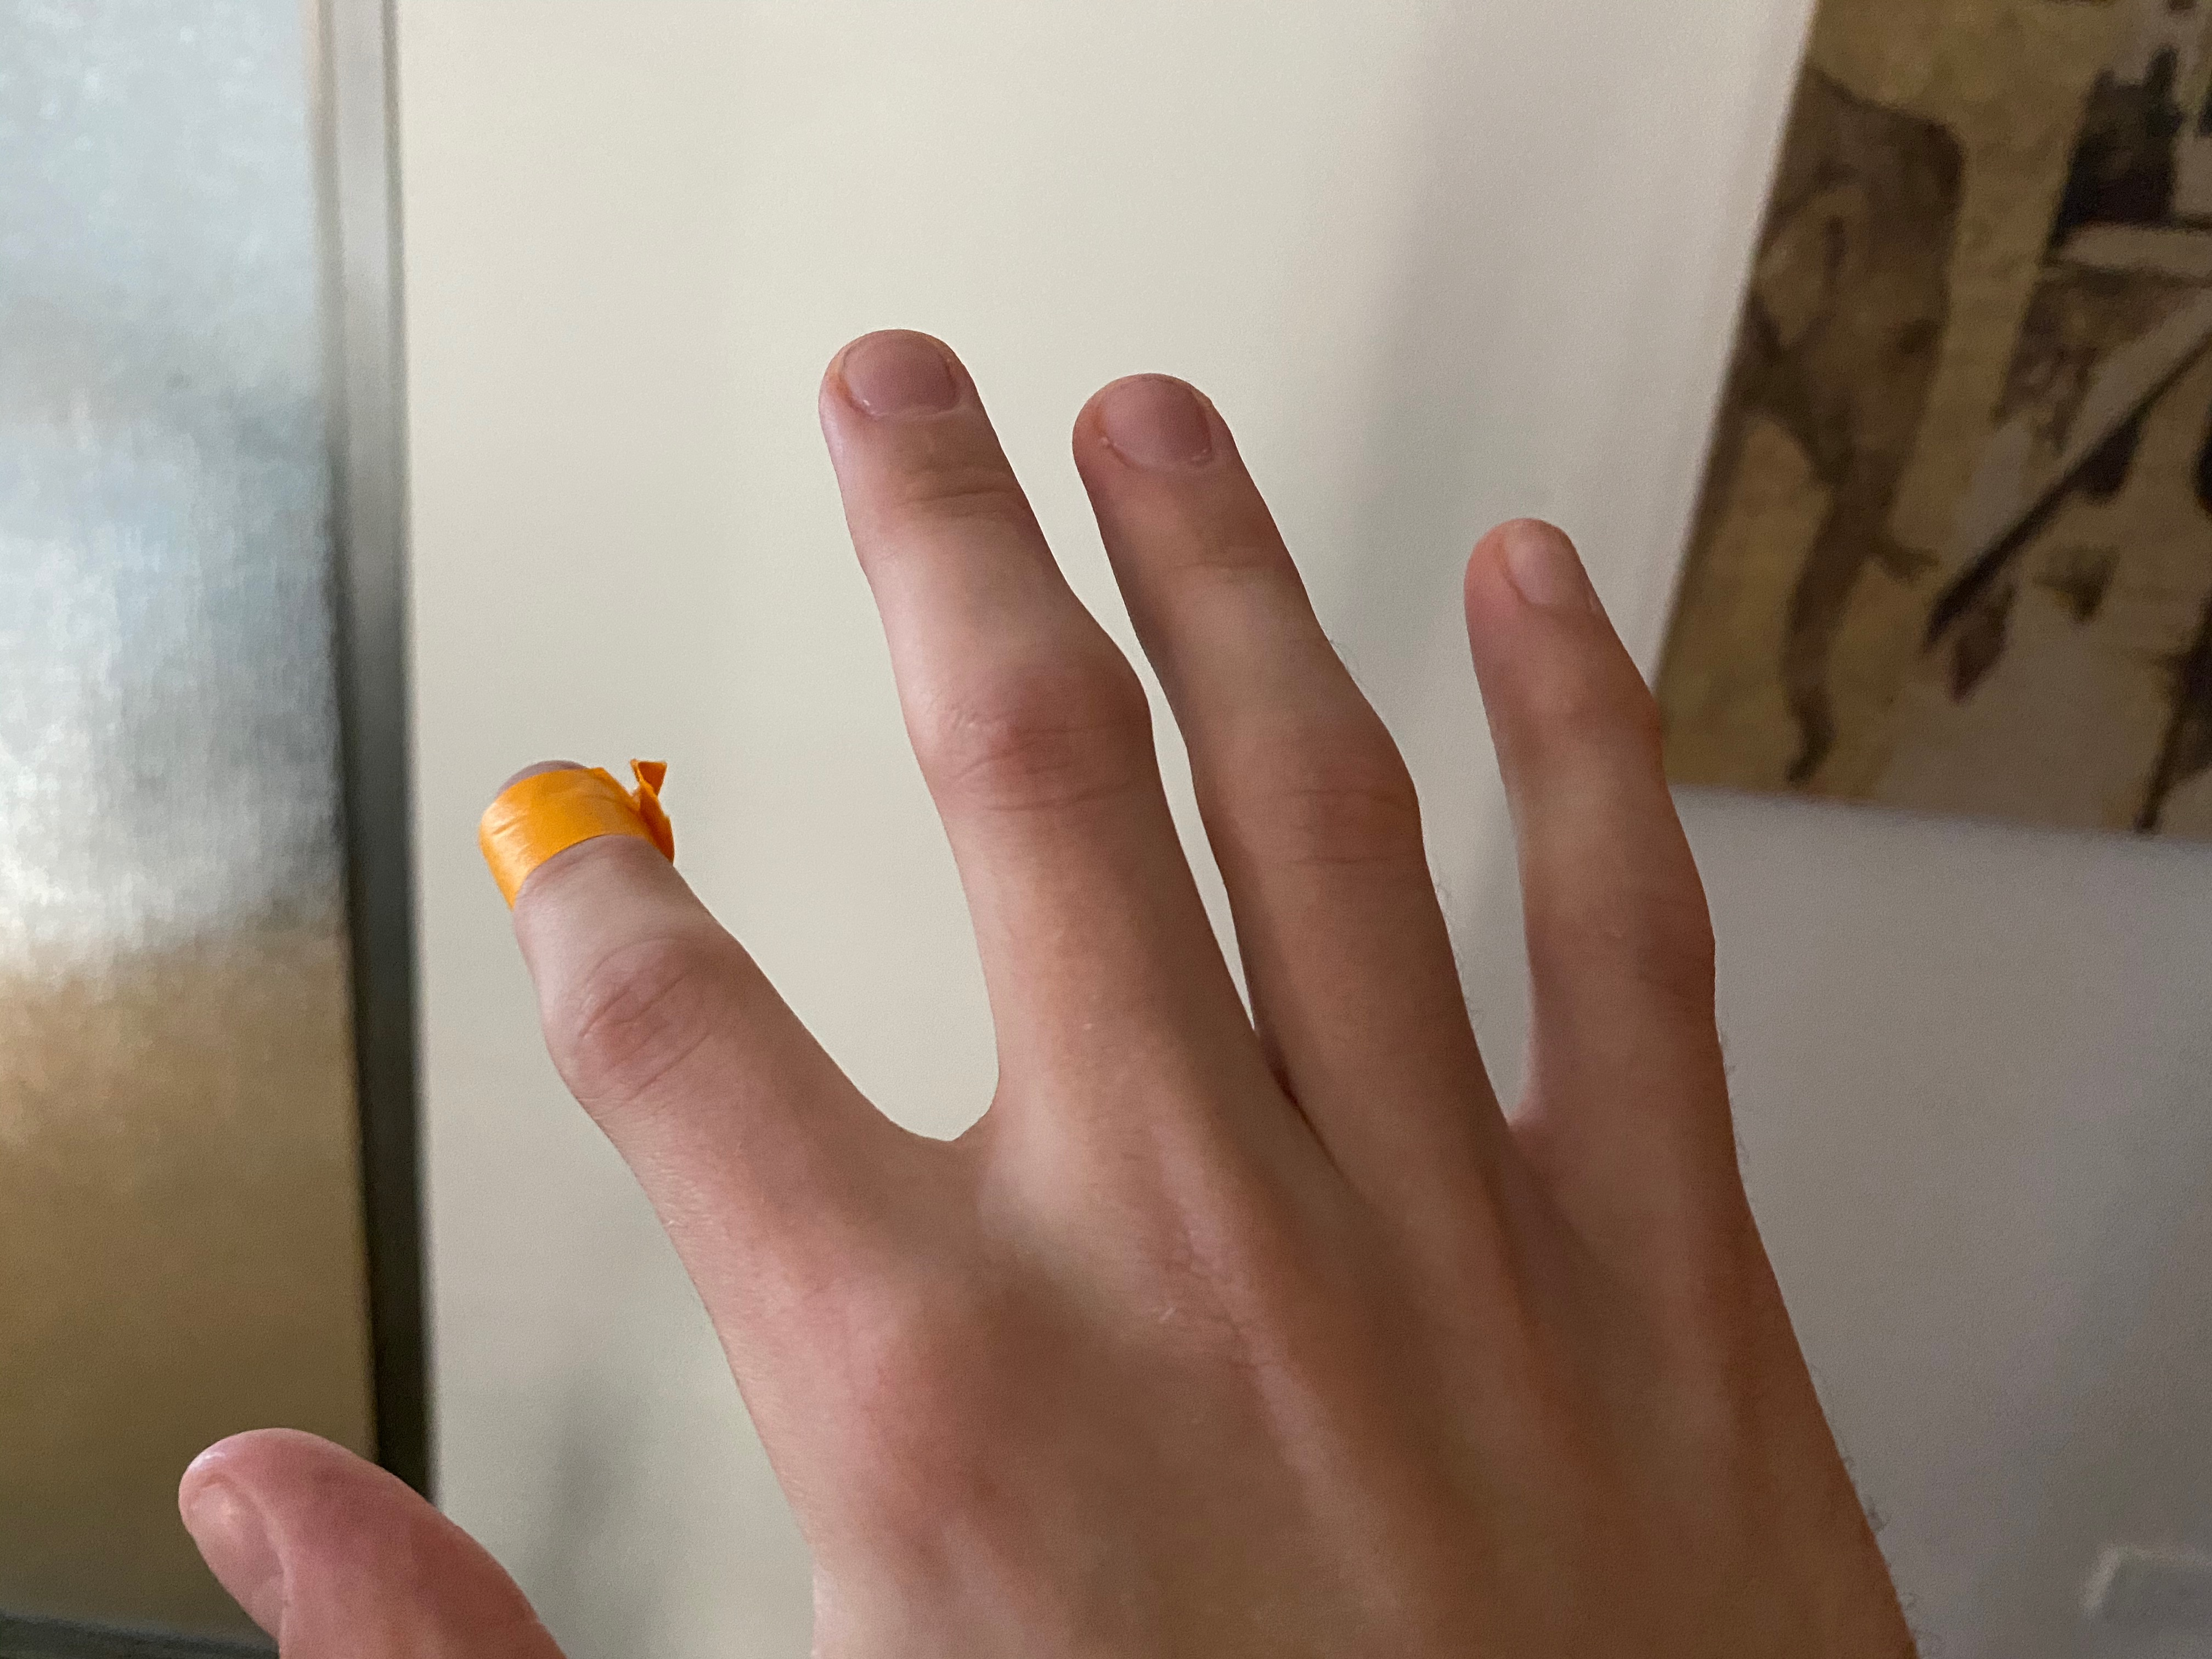fingertip: (458, 721, 719, 924)
